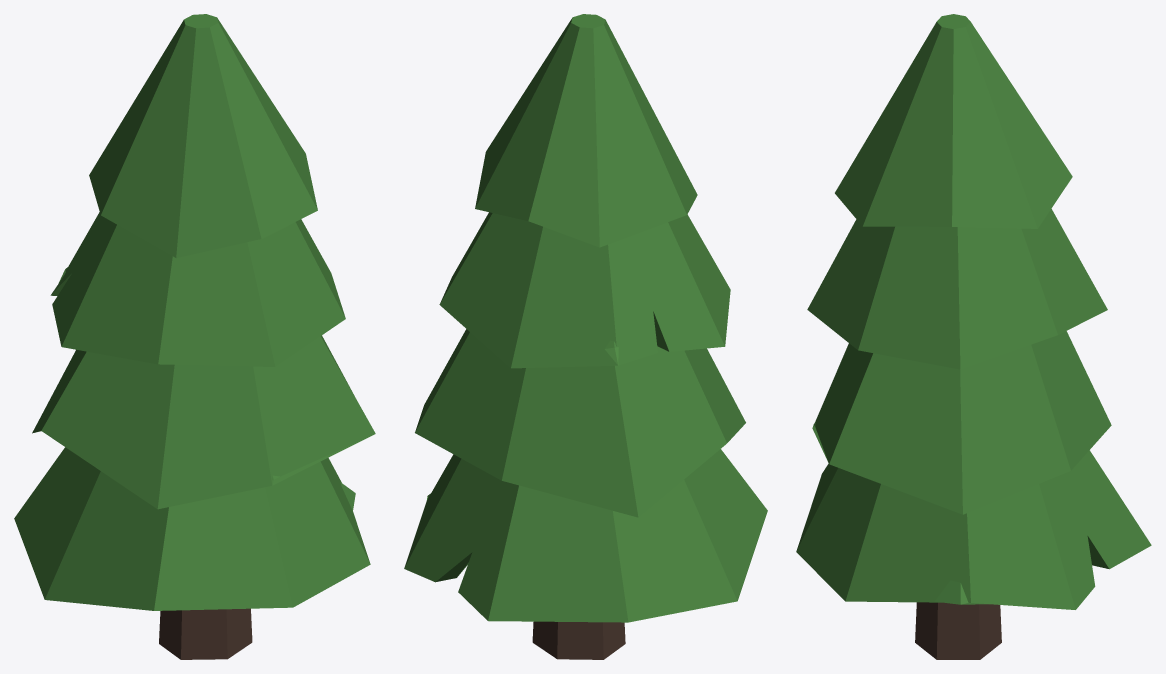
Rendered from tree5.fbx.
3 renders of one model, left to right at view 1: azimuth 30°, elevation 25°; view 2: azimuth 150°, elevation 25°; view 3: azimuth 270°, elevation 25°, orthographic.
Visible parts, largest first — view 1: Cylinder.003; view 2: Cylinder.003; view 3: Cylinder.003.
Boxes of the visible parts, left/top/right/bottom form: Cylinder.003: left=14, top=14, right=375, bottom=659; Cylinder.003: left=404, top=14, right=767, bottom=659; Cylinder.003: left=796, top=14, right=1151, bottom=659.
Size of the model in its own units: 275 by 525 by 274.
